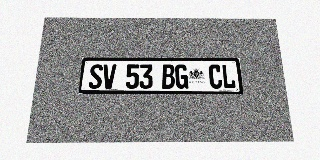3: (139, 64, 153, 89)
5: (126, 64, 139, 89)
B: (162, 64, 175, 89)
C: (208, 64, 223, 89)
G: (175, 64, 188, 89)
L: (221, 64, 236, 89)
S: (88, 64, 103, 89)
V: (102, 64, 116, 89)
